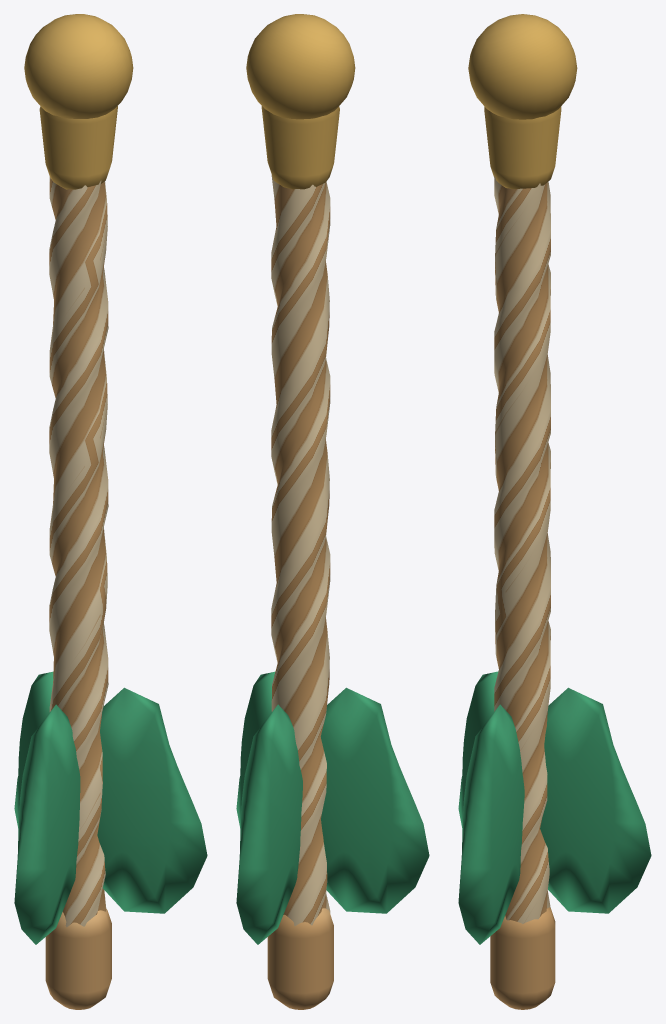
File: golden-javelin.glb
The picture shows the model from 3 angles, left to right: view 1: azimuth 30°, elevation 25°; view 2: azimuth 150°, elevation 25°; view 3: azimuth 270°, elevation 25°; orthographic projection.
Visible parts, largest first — view 1: golden_javelin; view 2: golden_javelin; view 3: golden_javelin.
Boxes of the visible parts, box(x1,y1,x2,y2) form: golden_javelin: box(14, 14, 207, 1009); golden_javelin: box(236, 14, 429, 1009); golden_javelin: box(458, 14, 651, 1009).
Size of the model in its own units: 0.1472 by 0.7198 by 0.1275.
Materials: 1 (1 with a texture image).
